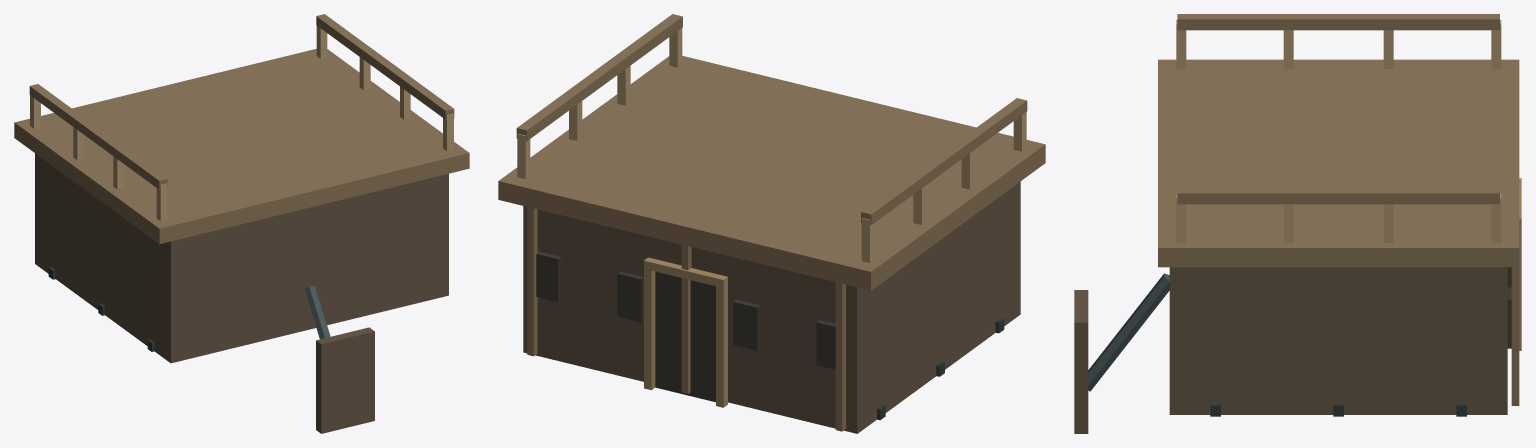
File: SW_SternCastle.fbx
3 views of the same model, side by side, from view 1: azimuth 30°, elevation 25°; view 2: azimuth 150°, elevation 25°; view 3: azimuth 270°, elevation 25° (orthographic). The views are drawn at different scales.
Parts seen in each view (by area): view 1: SW_SternCastle; view 2: SW_SternCastle; view 3: SW_SternCastle.
Boxes of the visible parts, <box> form: SW_SternCastle: <box>14,14,469,433</box>; SW_SternCastle: <box>498,14,1045,433</box>; SW_SternCastle: <box>1074,14,1521,433</box>.
Size of the model in its own units: 5.8 by 4.51 by 5.82.
